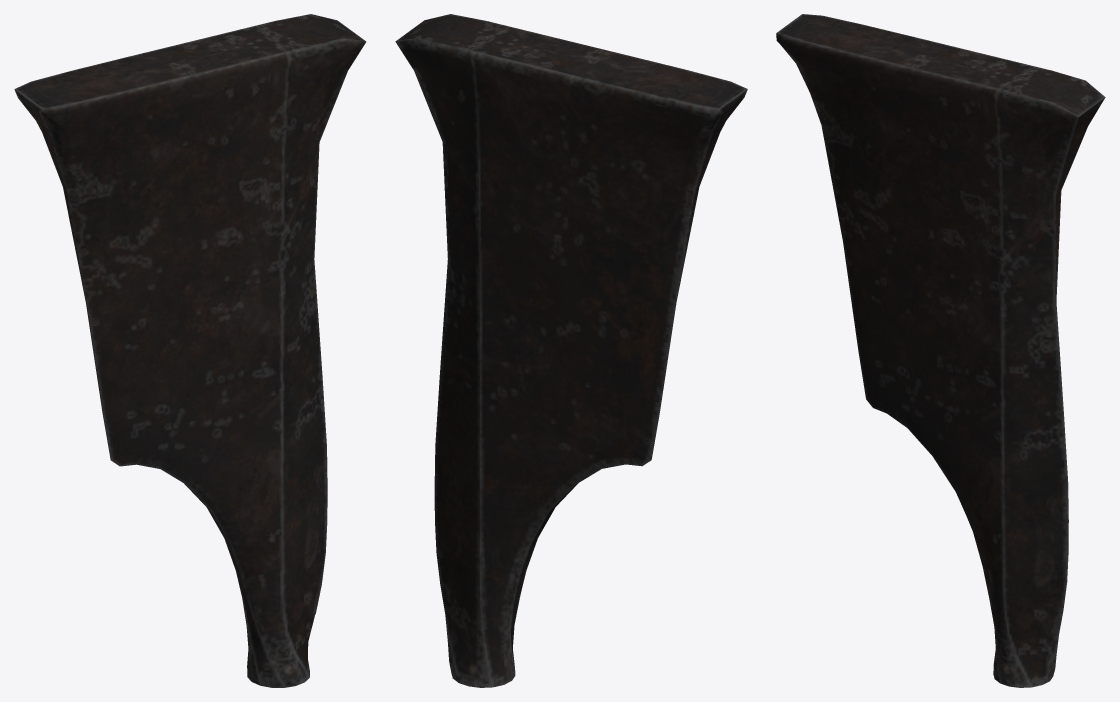
The model's file is wm_dol_goldur_2h_mace_a01_blade.fbx.
3 renders of one model, left to right at view 1: azimuth 30°, elevation 25°; view 2: azimuth 150°, elevation 25°; view 3: azimuth 330°, elevation 25°, orthographic. The views are drawn at different scales.
Parts seen in each view (by area): view 1: wm_dol_goldur_2h_mace_a01_blade; view 2: wm_dol_goldur_2h_mace_a01_blade; view 3: wm_dol_goldur_2h_mace_a01_blade.
Boxes of the visible parts, box(x1,y1,x2,y2) form: wm_dol_goldur_2h_mace_a01_blade: box(14, 14, 366, 687); wm_dol_goldur_2h_mace_a01_blade: box(395, 14, 747, 687); wm_dol_goldur_2h_mace_a01_blade: box(776, 14, 1105, 687).
Bounding box in the file's own units: 0.2164 × 0.0473 × 0.4072.
Materials: 1 (1 with a texture image).
